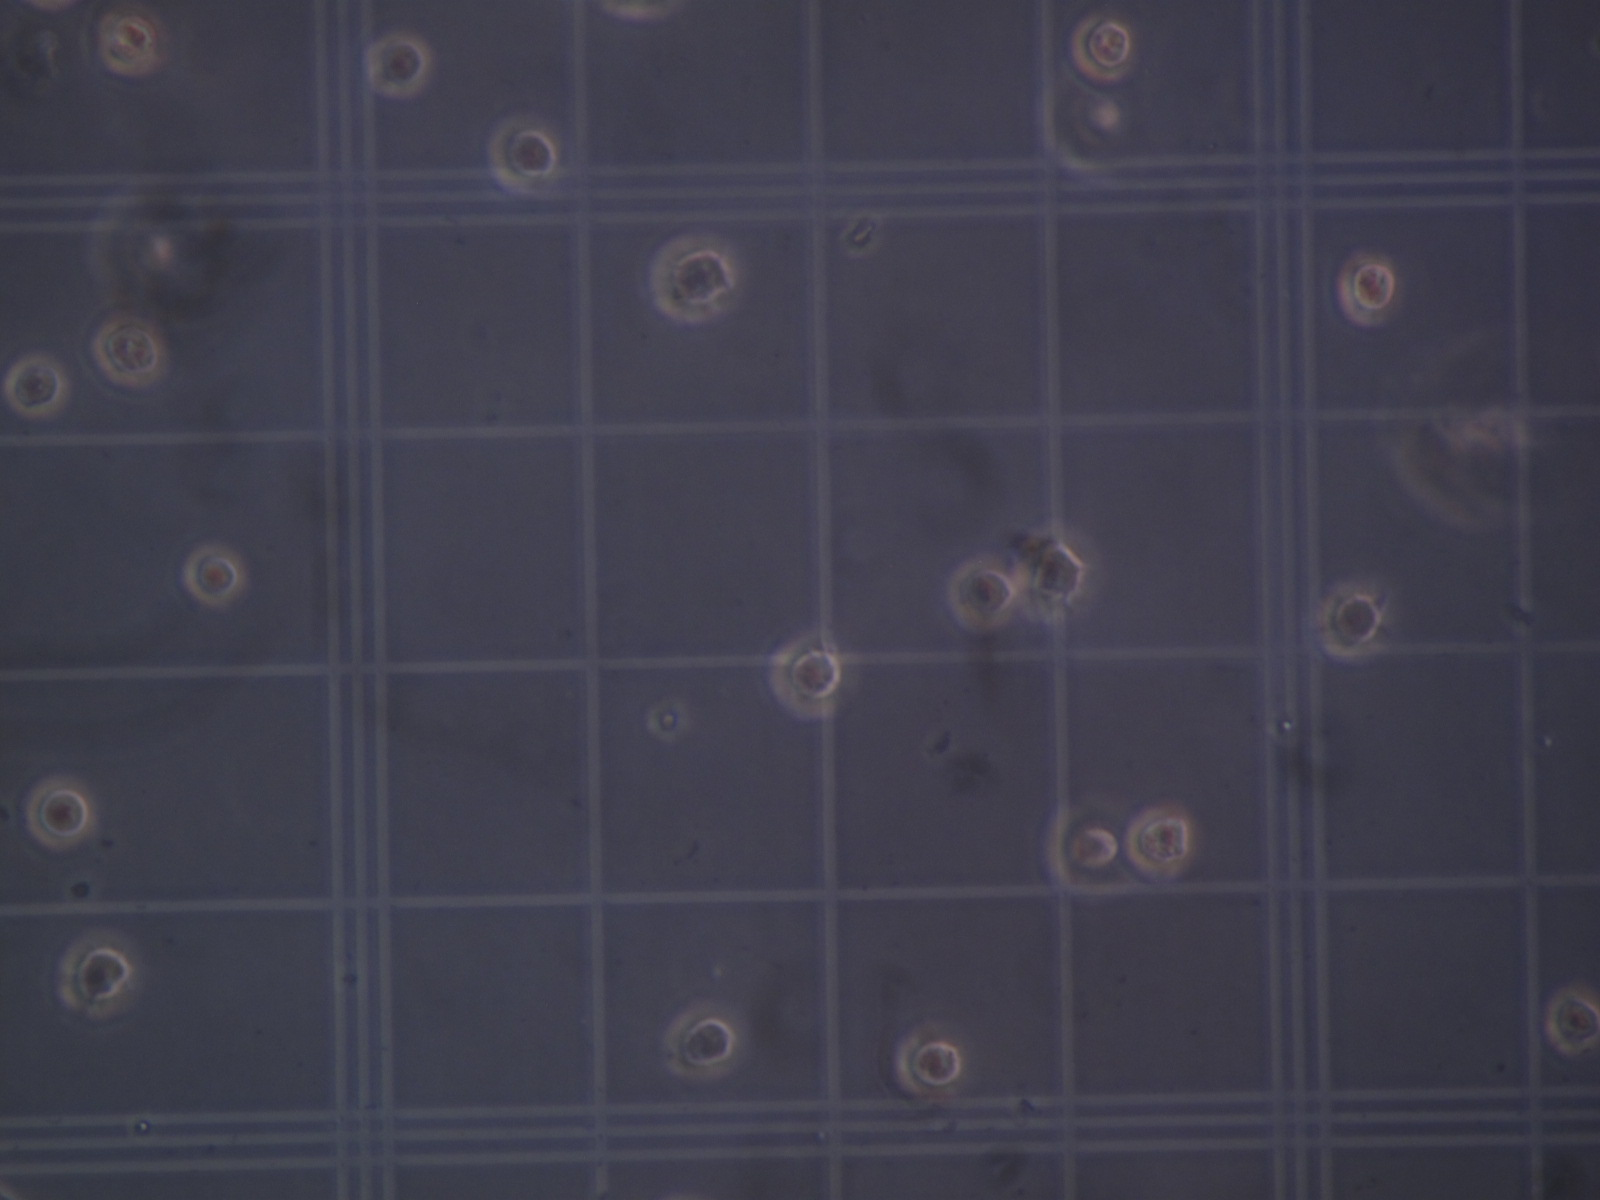hemo: (648, 233, 736, 323), (1043, 803, 1125, 897), (55, 929, 139, 1018), (1014, 528, 1086, 624), (661, 1001, 743, 1082), (769, 633, 844, 718), (91, 316, 166, 388), (488, 116, 558, 192), (1125, 805, 1194, 879), (894, 1029, 965, 1099), (25, 775, 92, 850), (1318, 584, 1382, 661), (1335, 252, 1401, 326), (947, 560, 1015, 629), (97, 8, 163, 77), (1070, 14, 1134, 82), (3, 353, 67, 418), (364, 34, 430, 98), (181, 543, 243, 606), (1545, 988, 1600, 1055)
